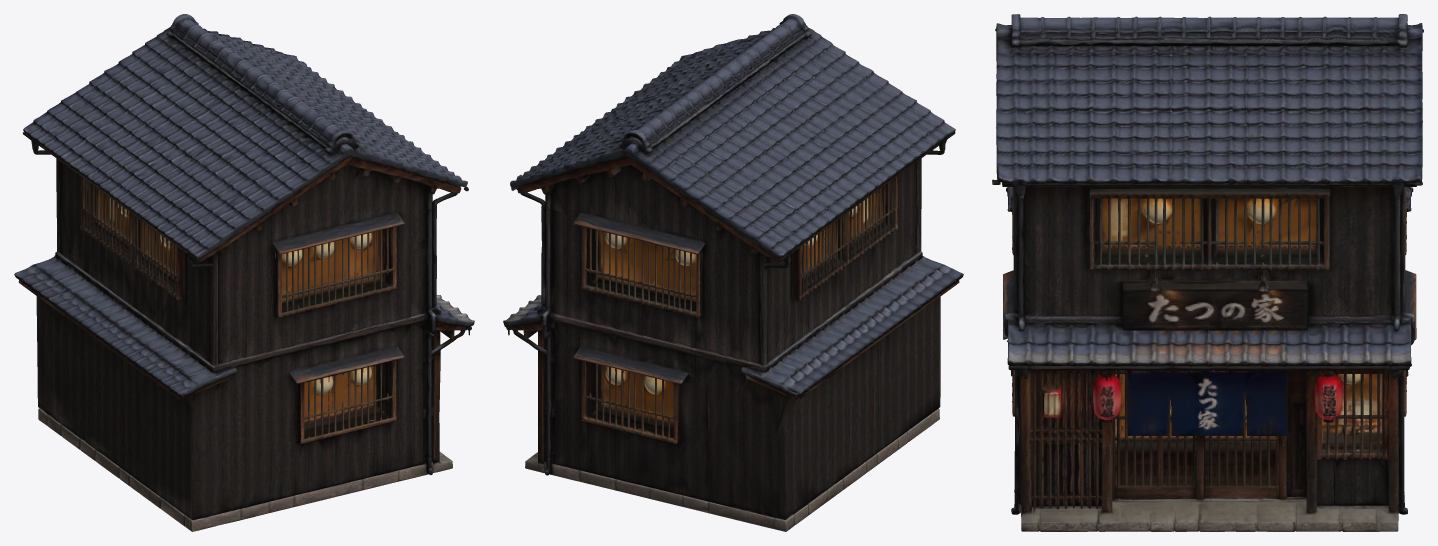
The model's file is tatsu_opt.glb.
The picture shows the model from 3 angles, left to right: view 1: azimuth 30°, elevation 25°; view 2: azimuth 150°, elevation 25°; view 3: azimuth 270°, elevation 25°; orthographic projection. The views are drawn at different scales.
Visible parts, largest first — view 1: tripo_node_faf215a5-40a3-48fc-9704-03e7304d114e; view 2: tripo_node_faf215a5-40a3-48fc-9704-03e7304d114e; view 3: tripo_node_faf215a5-40a3-48fc-9704-03e7304d114e.
Part boxes in pixels (box(x1,y1,x2,y2)): tripo_node_faf215a5-40a3-48fc-9704-03e7304d114e: box(14, 14, 474, 531); tripo_node_faf215a5-40a3-48fc-9704-03e7304d114e: box(503, 14, 963, 531); tripo_node_faf215a5-40a3-48fc-9704-03e7304d114e: box(992, 14, 1423, 531).
Bounding box in the file's own units: 0.8503 × 1 × 0.8709.
1 material, 1 textured.
